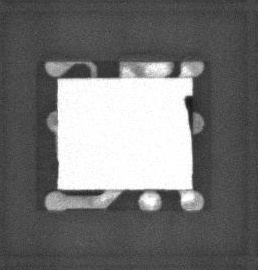DIE_BROKEN: (183, 94, 193, 129)
